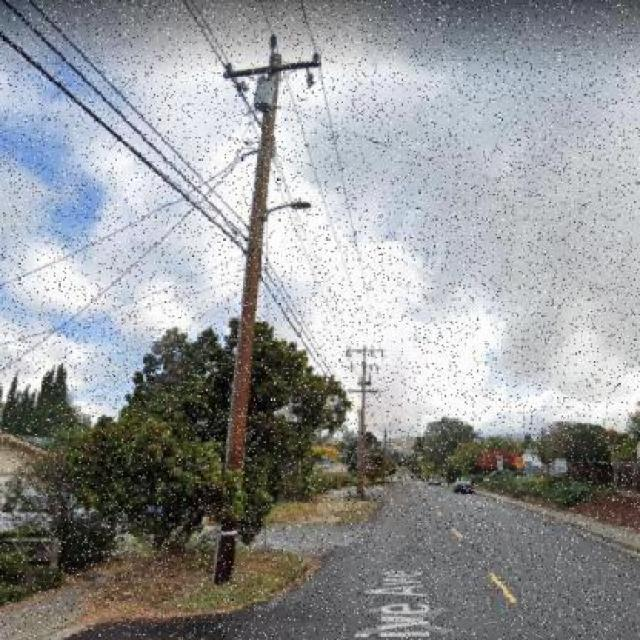pole: (194, 19, 321, 599), (336, 329, 381, 523)
